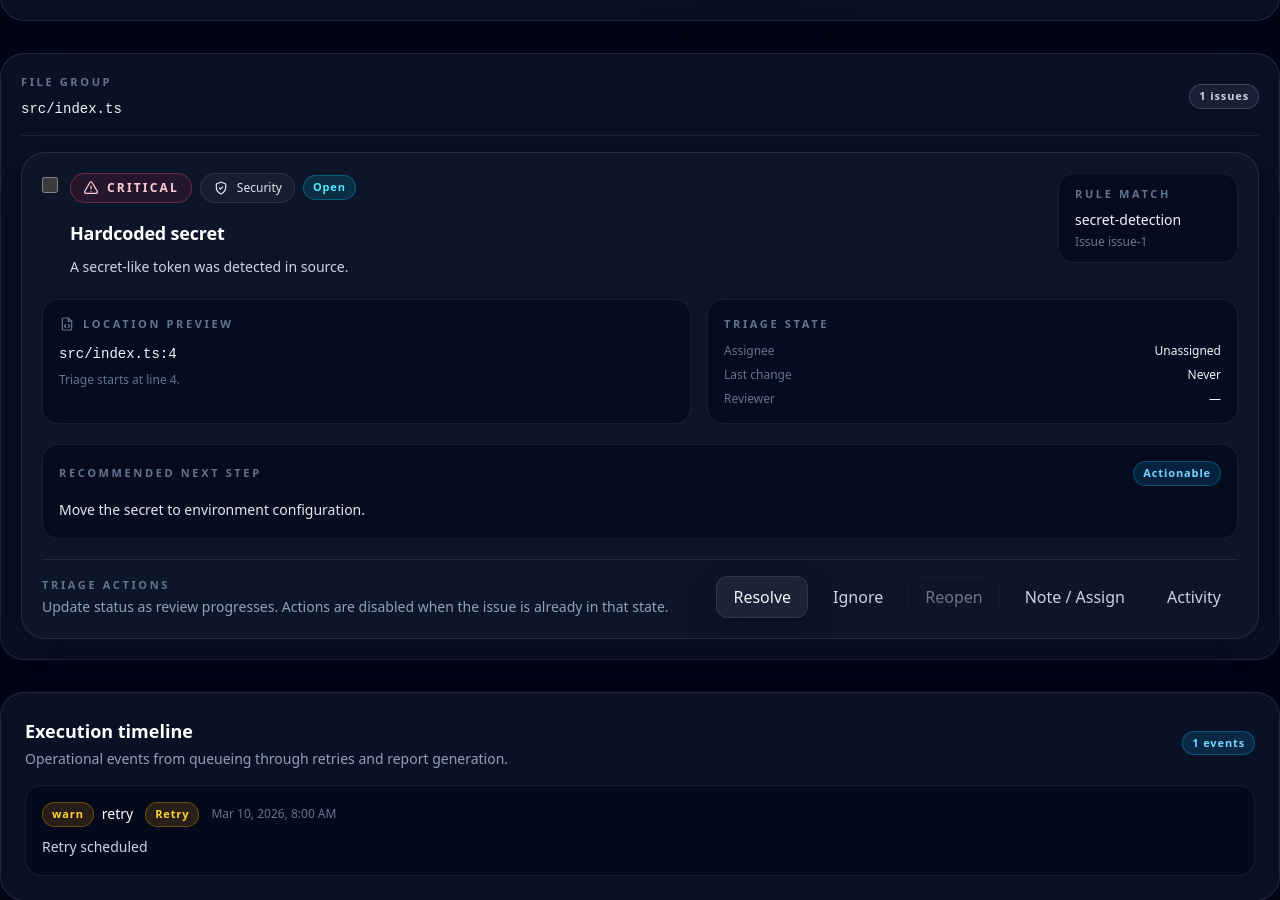
Test: ScanDetailsPage › renders GitHub scan context, timeline, retries, and triage actions
(page scrolled)
Check: the text "Retry scheduled" is shown, box left=42, top=836, right=148, bottom=855
Check: the text "Retry" is shown, box left=145, top=802, right=199, bottom=826
Click the button "Resolve" at {"x": 762, "y": 597}, box left=716, top=576, right=808, bottom=618
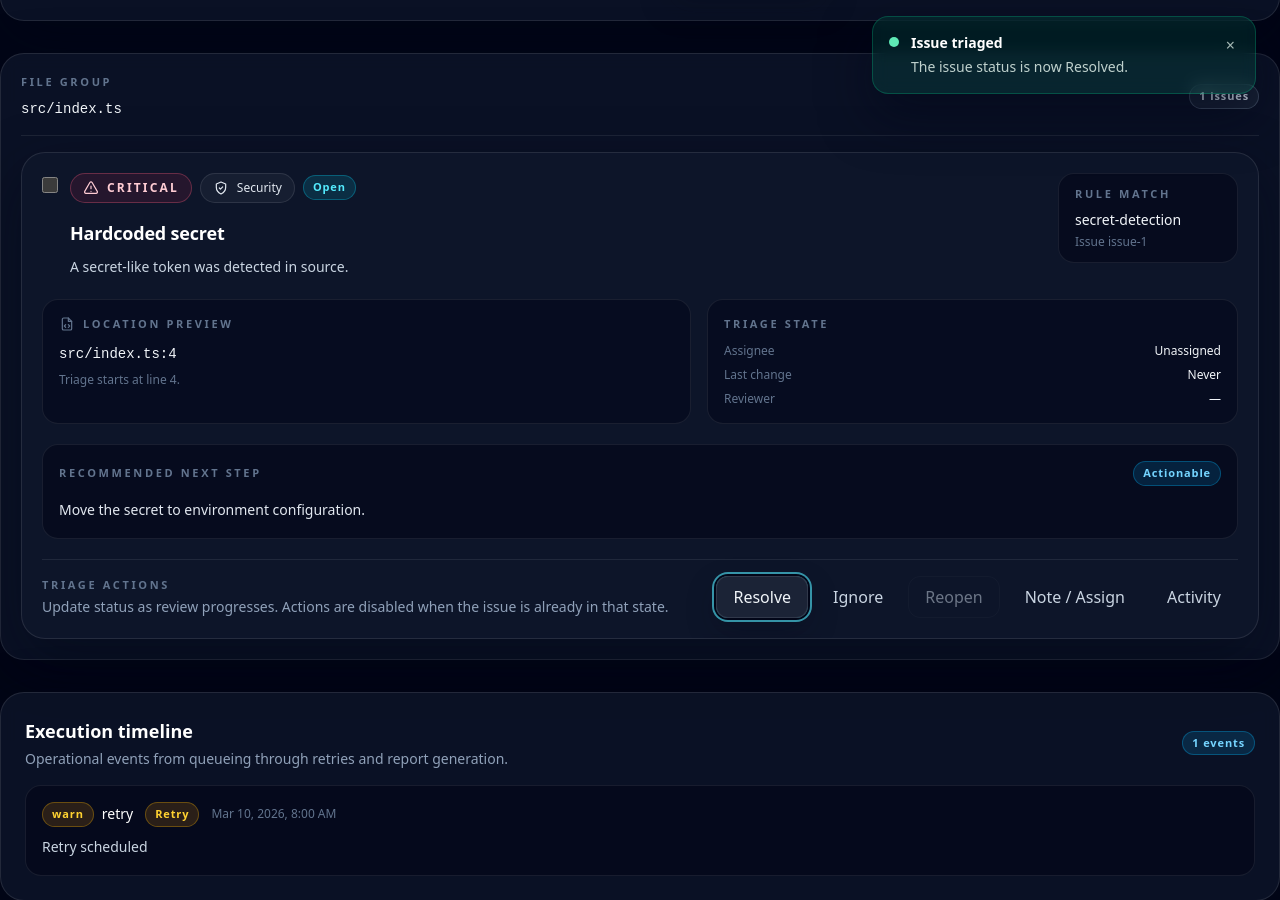
Check: the text "Issue triaged" is shown, box left=911, top=33, right=1003, bottom=52
